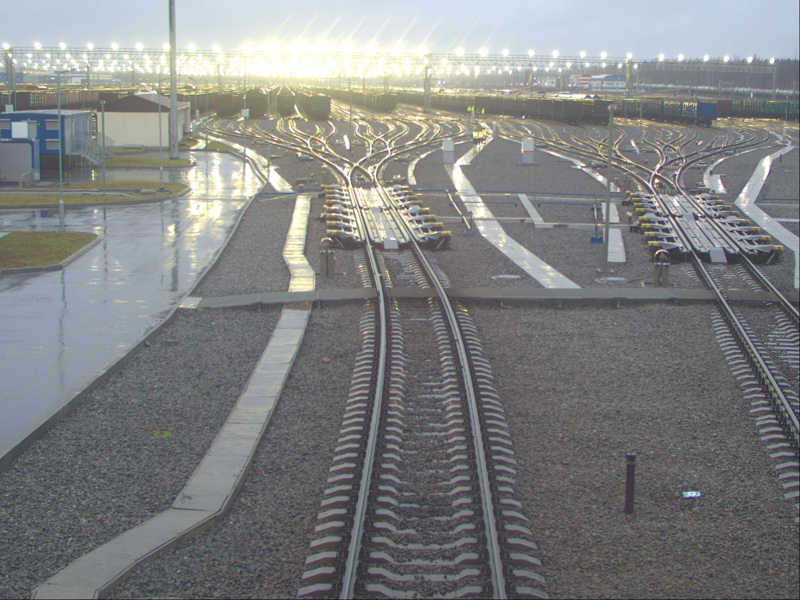right: (348, 162, 379, 185)
